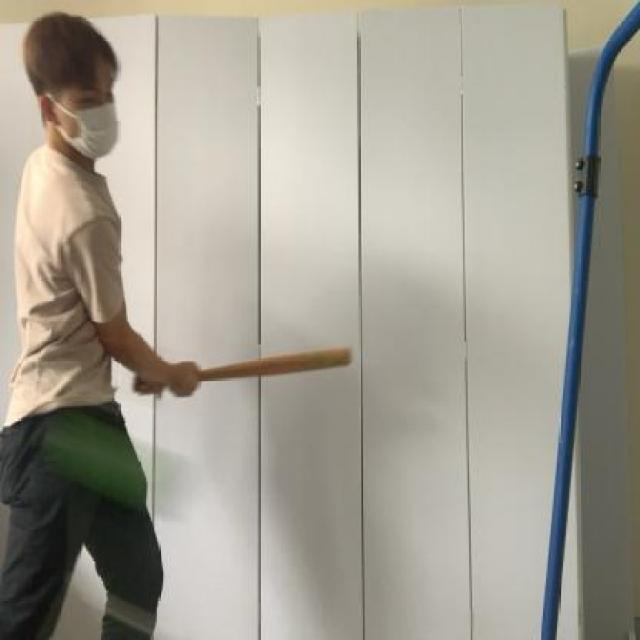baseball: (46, 402, 200, 520)
